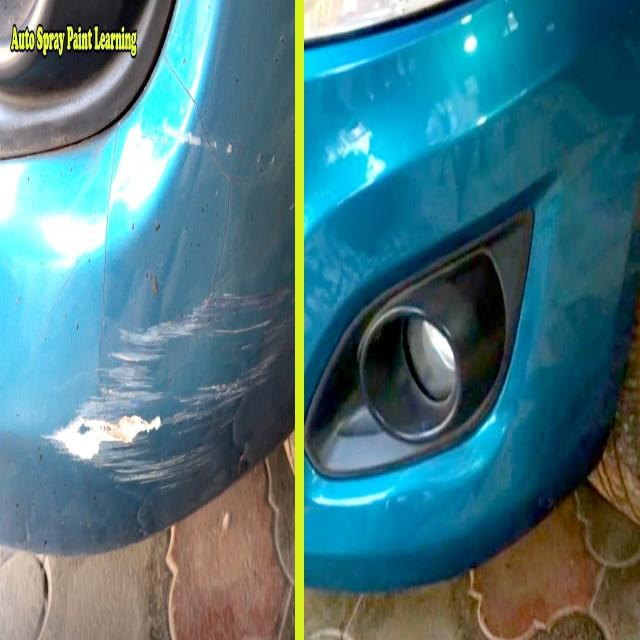scratch: (35, 278, 293, 493)
